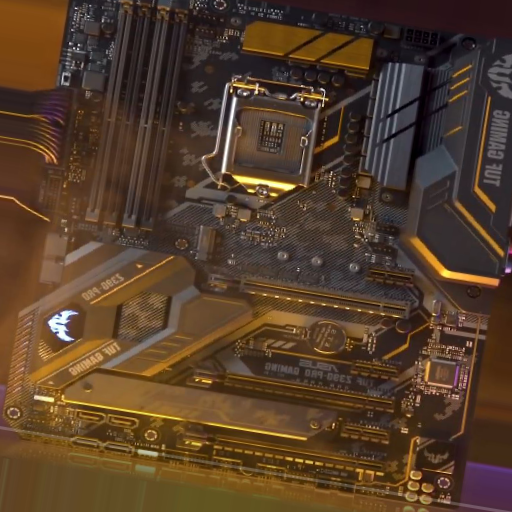CPU: (220, 76, 326, 199)
GPU: (179, 422, 384, 478), (202, 270, 411, 321), (189, 366, 396, 415)
MOTHERBOARD: (30, 1, 488, 507)
RAM: (83, 1, 189, 233)
SSD: (193, 225, 222, 265)
